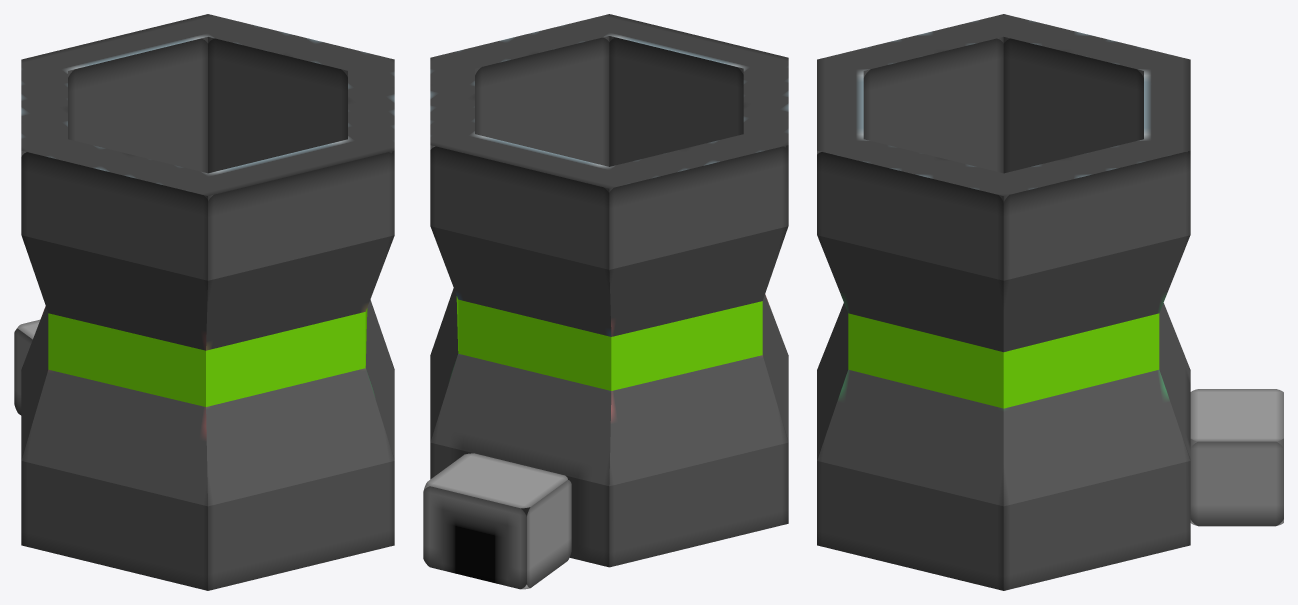
File: nuclear.fbx
The picture shows the model from 3 angles, left to right: view 1: azimuth 30°, elevation 25°; view 2: azimuth 150°, elevation 25°; view 3: azimuth 270°, elevation 25°; orthographic projection. The views are drawn at different scales.
Visible parts, largest first — view 1: cylinder; view 2: cylinder; view 3: cylinder.
Part boxes in pixels (box(x1,y1,x2,y2)): cylinder: box(14, 14, 394, 590); cylinder: box(423, 14, 788, 589); cylinder: box(817, 14, 1283, 590).
Bounding box in the file's own units: 86.6 × 87.5 × 93.75.
Materials: 2 (2 with a texture image).
